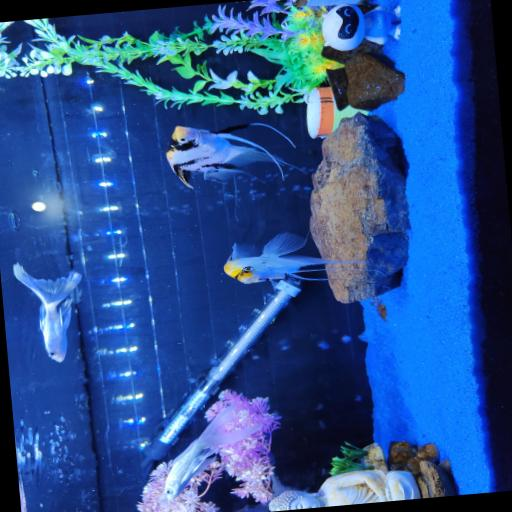Fish: (165, 404, 263, 500), (167, 124, 295, 188), (224, 232, 365, 283), (14, 264, 81, 362)
